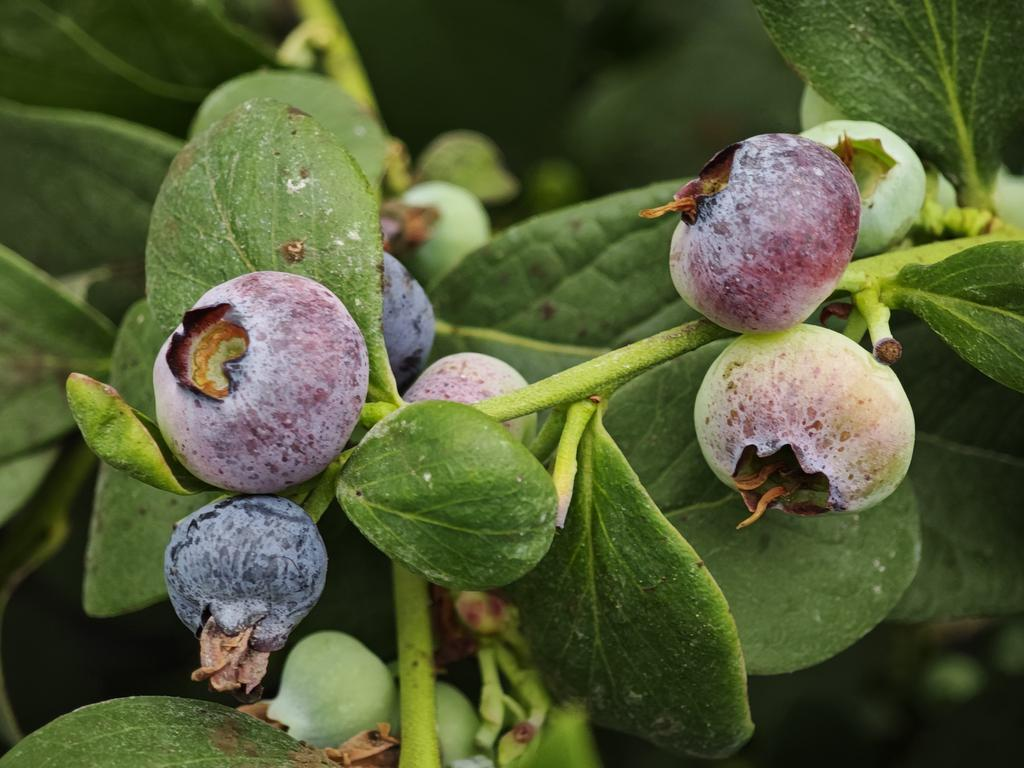RipeBlueBerry: (160, 498, 332, 655)
Semi-RipeBlueBerry: (149, 265, 374, 499), (664, 125, 864, 341)
UnripeBlueBerry: (689, 324, 920, 523)
